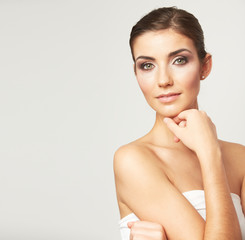young: (125, 8, 221, 114)
